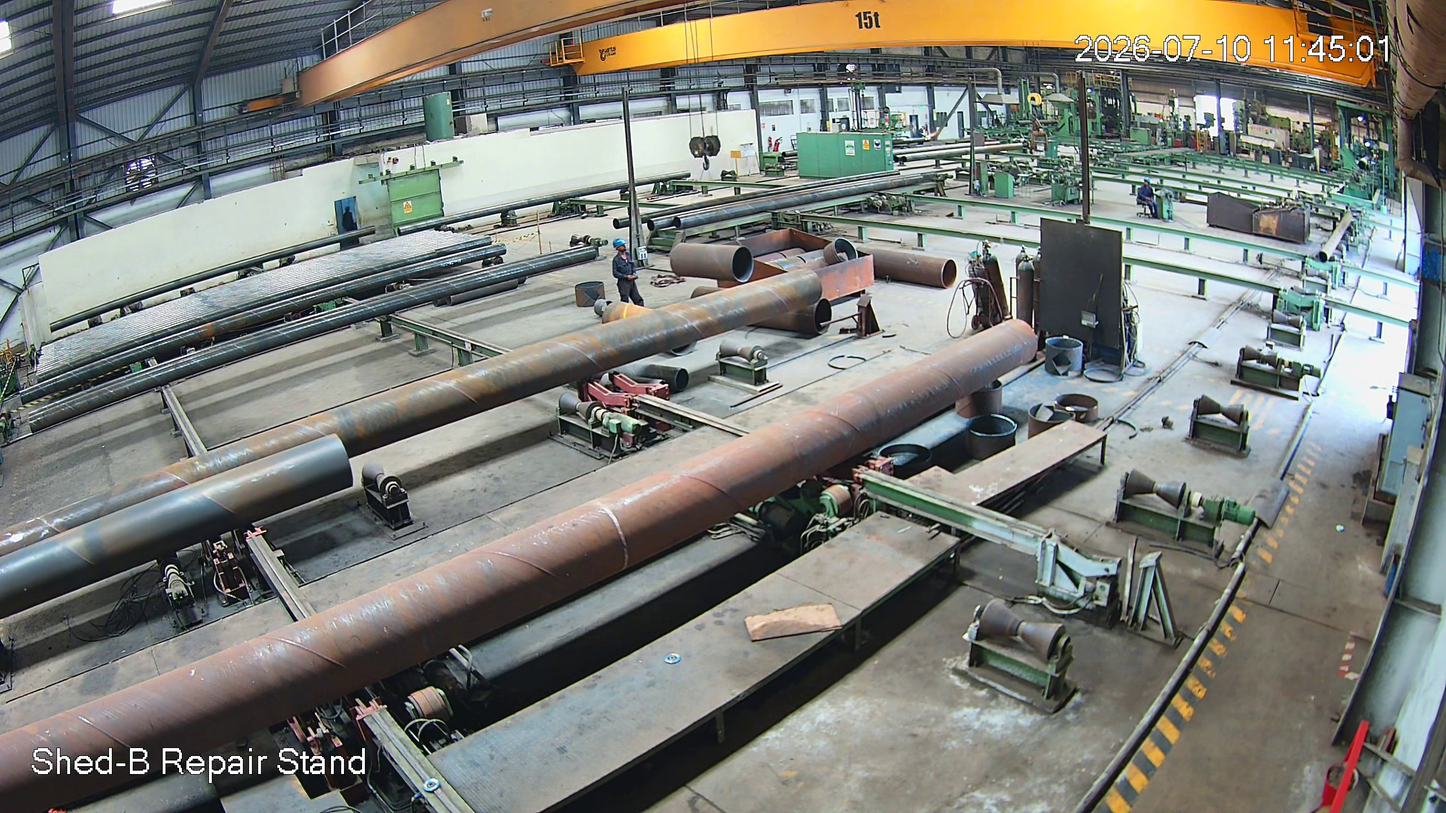Helmet: (611, 236, 633, 268), (1140, 173, 1153, 196)
Person: (608, 239, 654, 312), (1135, 176, 1159, 219)
